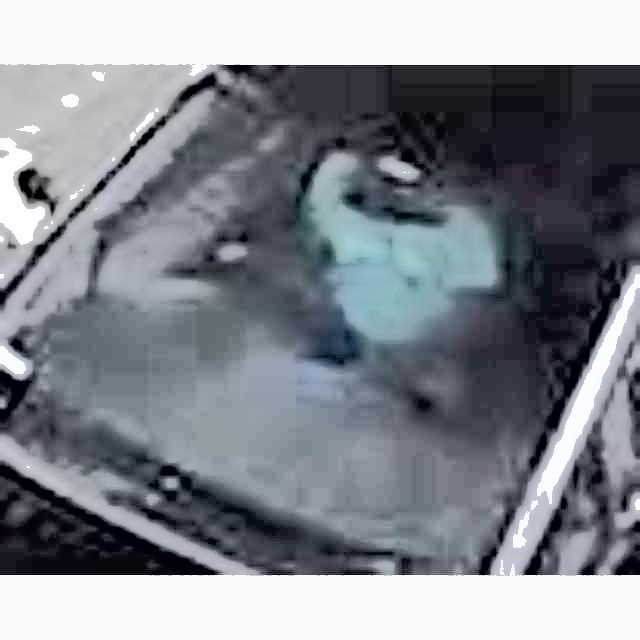tidak-pakai: (289, 151, 498, 428)
